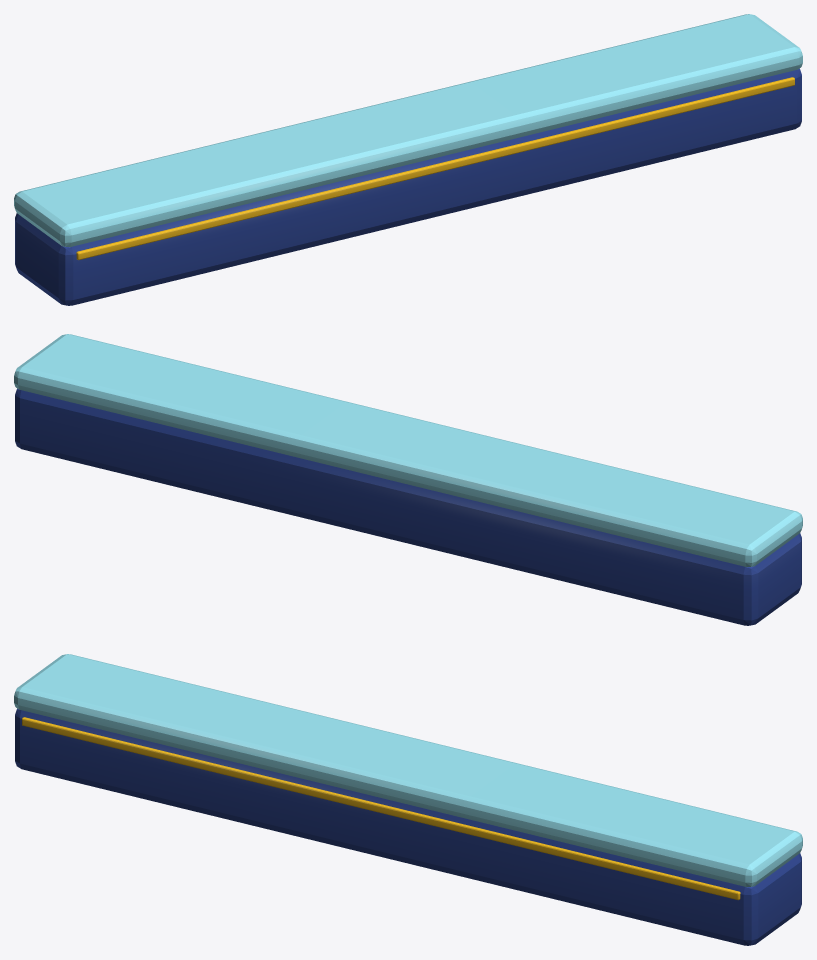
Rendered from HubEdgeStraight.fbx.
The picture shows the model from 3 angles, top to bottom: view 1: azimuth 30°, elevation 25°; view 2: azimuth 150°, elevation 25°; view 3: azimuth 330°, elevation 25°; orthographic projection.
Visible parts, largest first — view 1: HubEdgeStraight; view 2: HubEdgeStraight; view 3: HubEdgeStraight.
Boxes of the visible parts, <box> form: HubEdgeStraight: <box>14,14,802,305</box>; HubEdgeStraight: <box>14,334,802,625</box>; HubEdgeStraight: <box>14,654,802,945</box>.
Bounding box in the file's own units: 12 × 1.28 × 1.55.
1 material, 1 textured.
